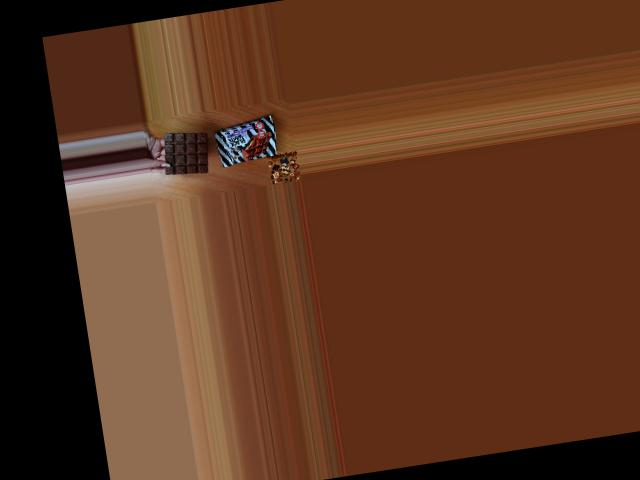chocolate: (210, 115, 282, 166)
